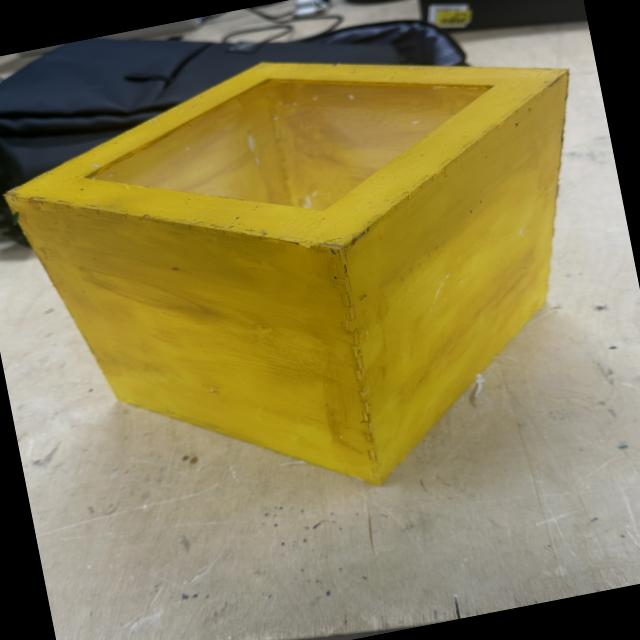yellow_bin: (0, 4, 640, 548)
